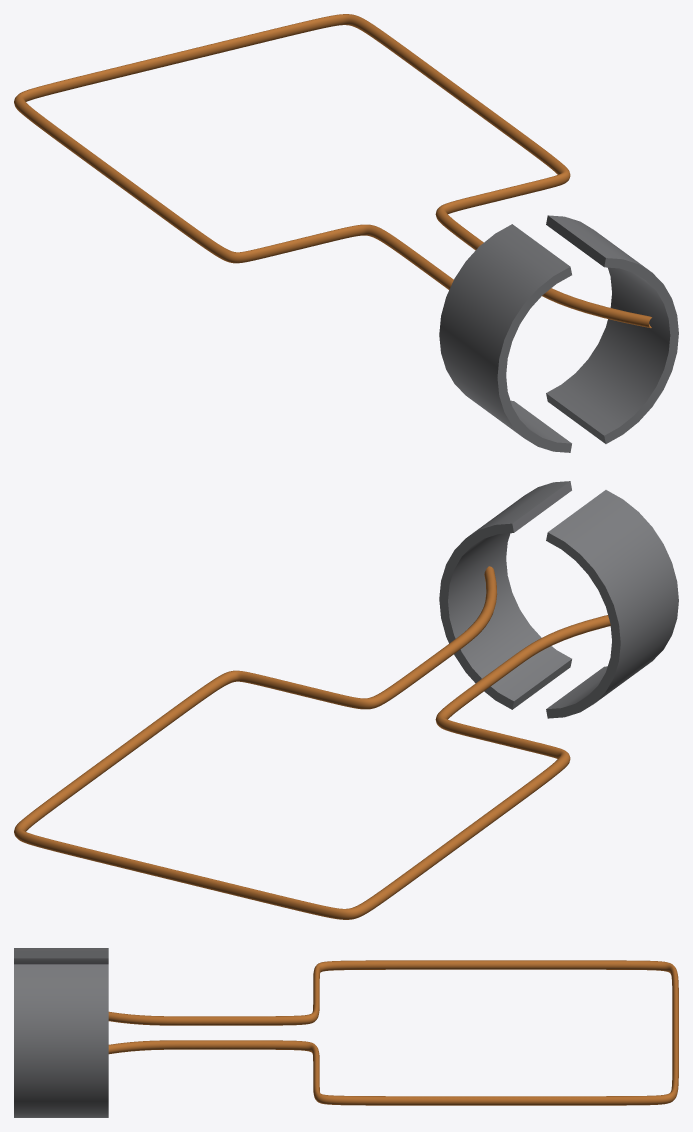
Rendered from DCcoil2.glb.
3 views of the same model, one above another, from view 1: azimuth 30°, elevation 25°; view 2: azimuth 150°, elevation 25°; view 3: azimuth 270°, elevation 25° (orthographic). The views are drawn at different scales.
Parts seen in each view (by area): view 1: NURBSパス.006, 円柱.003, 円柱.001; view 2: NURBSパス.006, 円柱.003, 円柱.001; view 3: 円柱.001, NURBSパス.006, 円柱.003.
Part boxes in pixels (<box>): NURBSパス.006: <box>14,14,651,328</box>; 円柱.003: <box>439,224,571,452</box>; 円柱.001: <box>546,215,678,443</box>; NURBSパス.006: <box>14,566,610,919</box>; 円柱.003: <box>546,490,678,718</box>; 円柱.001: <box>439,481,571,709</box>; 円柱.001: <box>14,964,108,1117</box>; NURBSパス.006: <box>108,960,678,1105</box>; 円柱.003: <box>14,948,108,964</box>.
Bounding box in the file's own units: 3.5 × 1.77 × 7.04.
